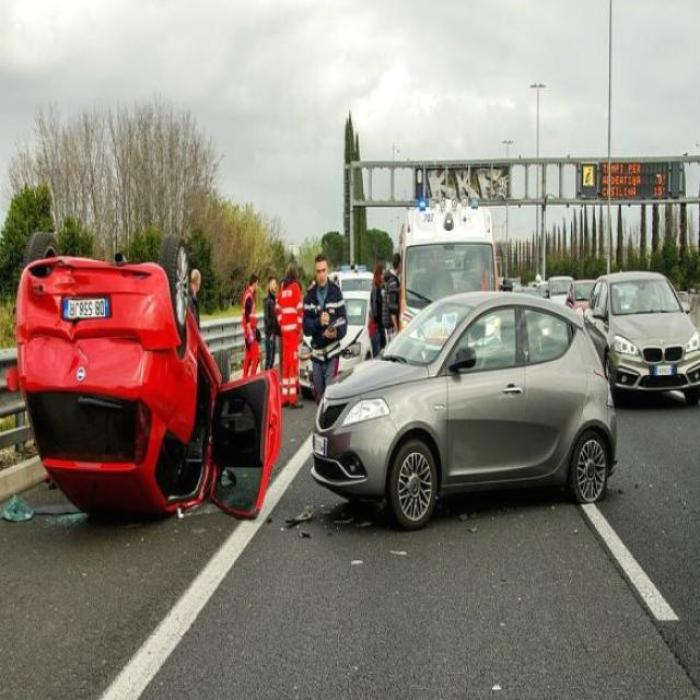Accident: (0, 213, 291, 585)
